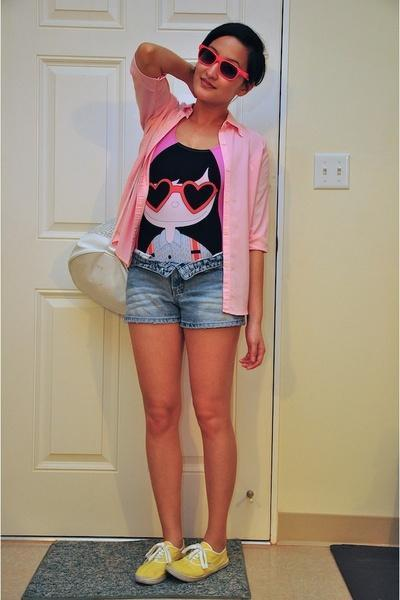jacket: (97, 74, 279, 314)
shirt: (136, 142, 244, 276)
shoe: (136, 541, 228, 580)
shorts: (124, 269, 249, 339)
sunglass: (199, 41, 259, 92)
